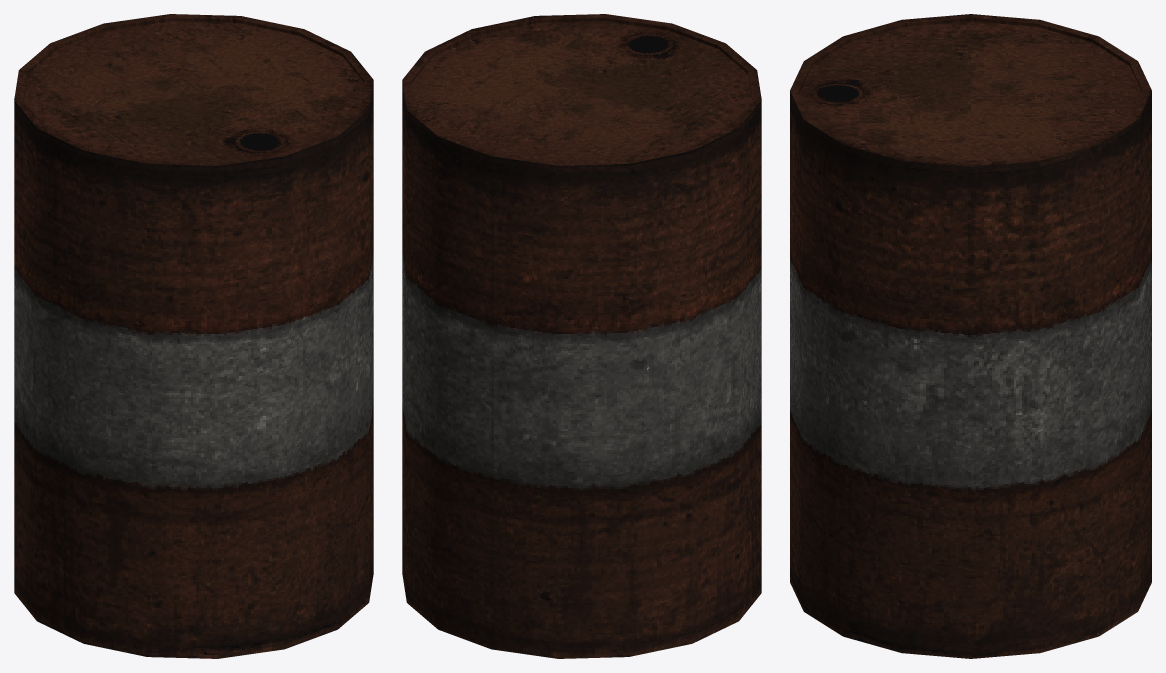
Rendered from metal_barrel_mp_0.glb.
3 renders of one model, left to right at view 1: azimuth 30°, elevation 25°; view 2: azimuth 150°, elevation 25°; view 3: azimuth 270°, elevation 25°, orthographic.
Parts seen in each view (by area): view 1: metal_barrel_mp_0; view 2: metal_barrel_mp_0; view 3: metal_barrel_mp_0.
Boxes of the visible parts, x1,y1,x2,y2 form: metal_barrel_mp_0: (14, 14, 373, 658); metal_barrel_mp_0: (402, 14, 761, 658); metal_barrel_mp_0: (790, 14, 1151, 658).
Size of the model in its own units: 0.72 by 1.08 by 0.72.
1 material, 1 textured.
